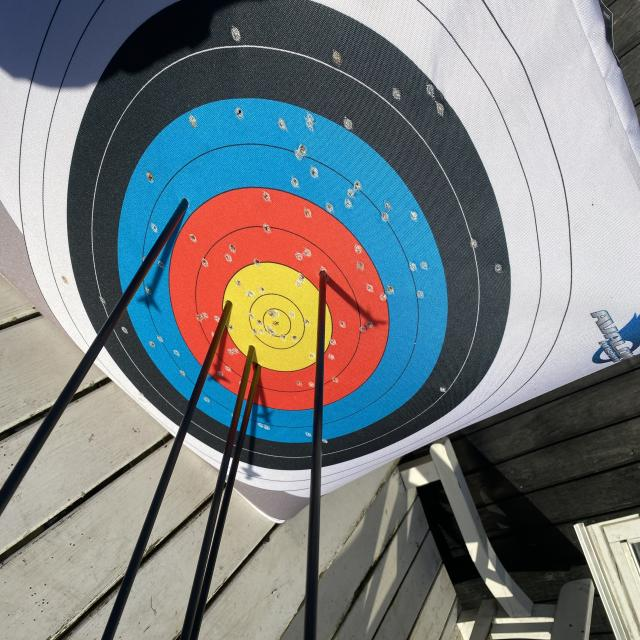Arrow_Blue: (170, 178, 196, 221)
Arrow_Red: (307, 259, 337, 291), (243, 363, 281, 382)
Arrow_Yellow: (244, 336, 262, 370), (219, 298, 239, 325)
